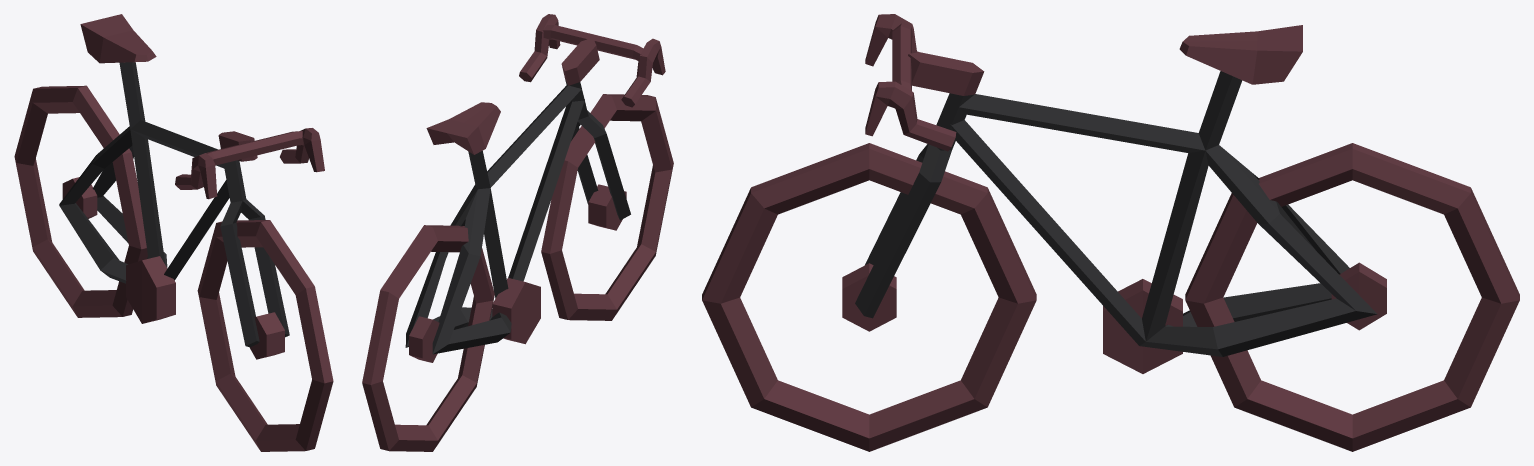
File: bike-modern.fbx
3 renders of one model, left to right at view 1: azimuth 30°, elevation 25°; view 2: azimuth 150°, elevation 25°; view 3: azimuth 270°, elevation 25°, orthographic. The views are drawn at different scales.
Visible parts, largest first — view 1: bike-modern; view 2: bike-modern; view 3: bike-modern.
Boxes of the visible parts, bbox=[...] form: bike-modern: bbox=[14, 14, 333, 451]; bike-modern: bbox=[362, 14, 673, 451]; bike-modern: bbox=[702, 14, 1519, 451].
Bounding box in the file's own units: 0.4178 × 1.04 × 1.88.
